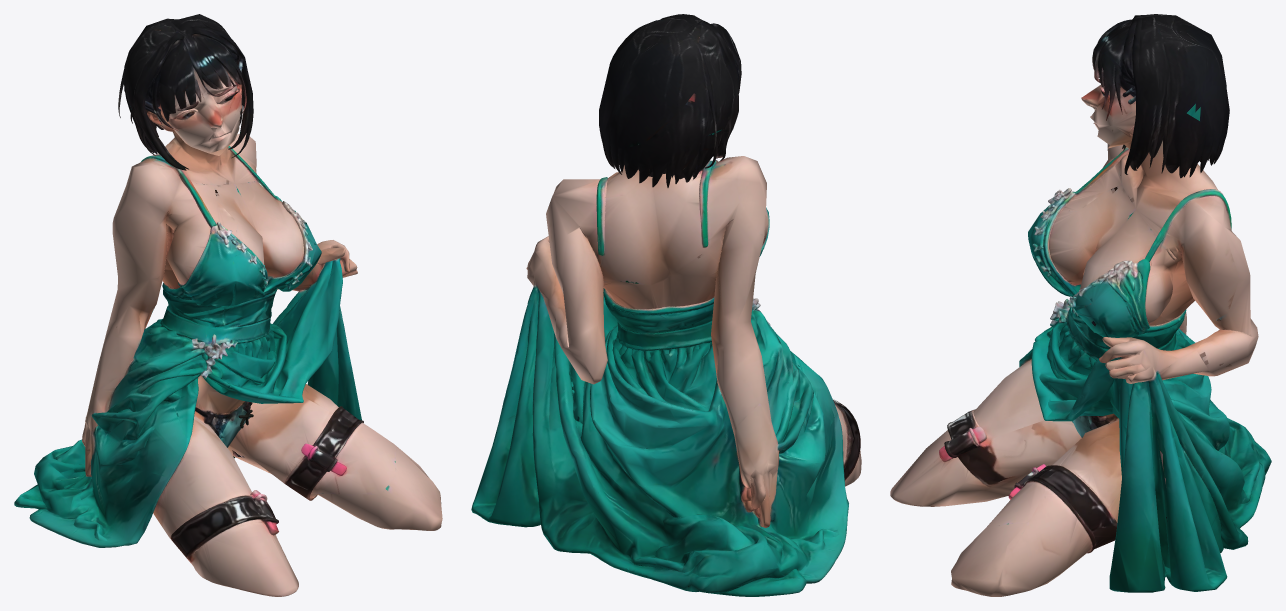
3 renders of one model, left to right at view 1: azimuth 30°, elevation 25°; view 2: azimuth 150°, elevation 25°; view 3: azimuth 270°, elevation 25°, orthographic. The views are drawn at different scales.
Visible parts, largest first — view 1: model; view 2: model; view 3: model.
Part boxes in pixels (x1,y1,x2,y2): model: [14, 14, 442, 596]; model: [471, 14, 861, 596]; model: [890, 14, 1271, 596].
Bounding box in the file's own units: 1.16 × 1.65 × 1.16.
Materials: 1 (1 with a texture image).
